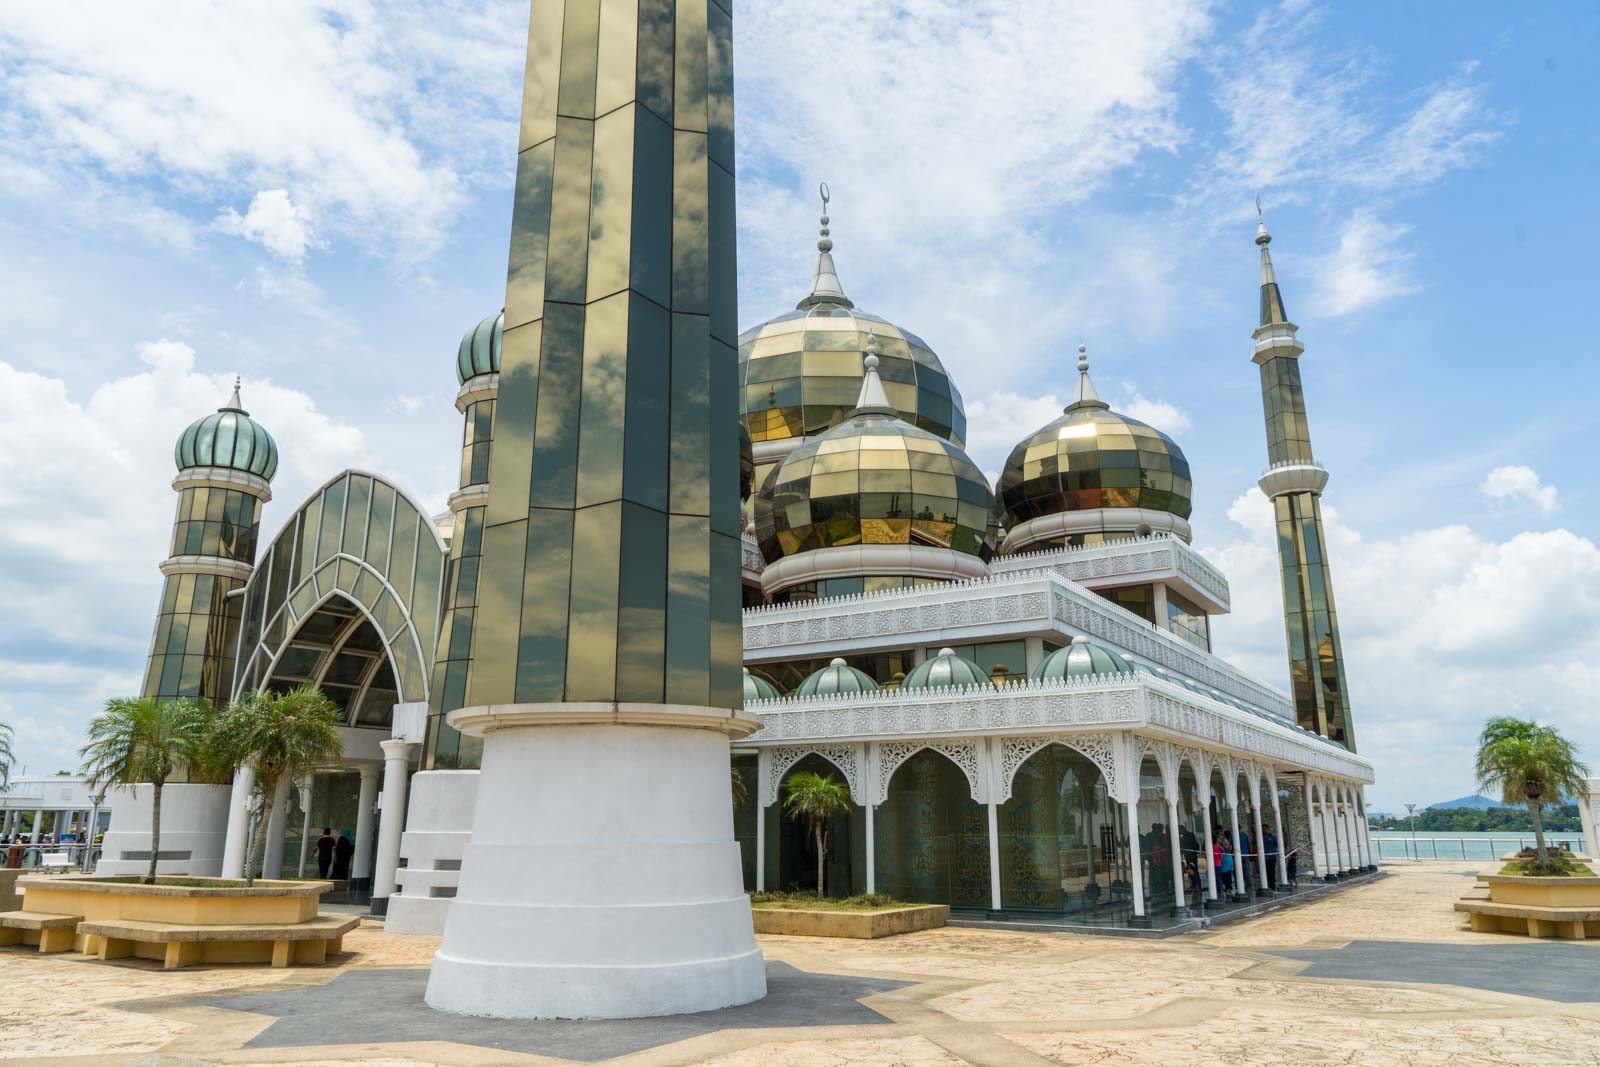Mosque: (145, 11, 1405, 882)
